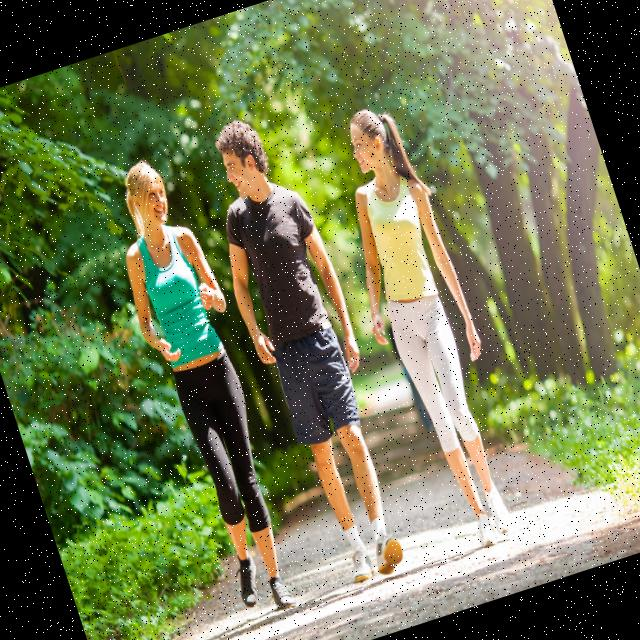Person: (184, 105, 428, 591), (90, 149, 323, 626), (308, 99, 542, 562)
